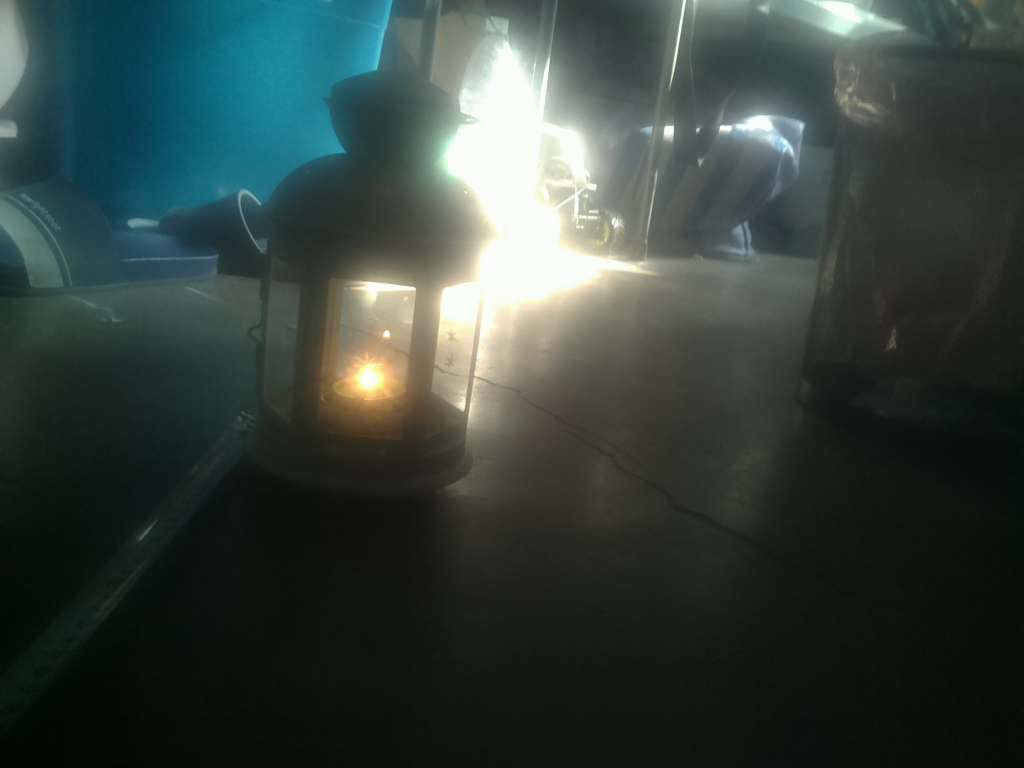fire: (333, 336, 407, 428)
